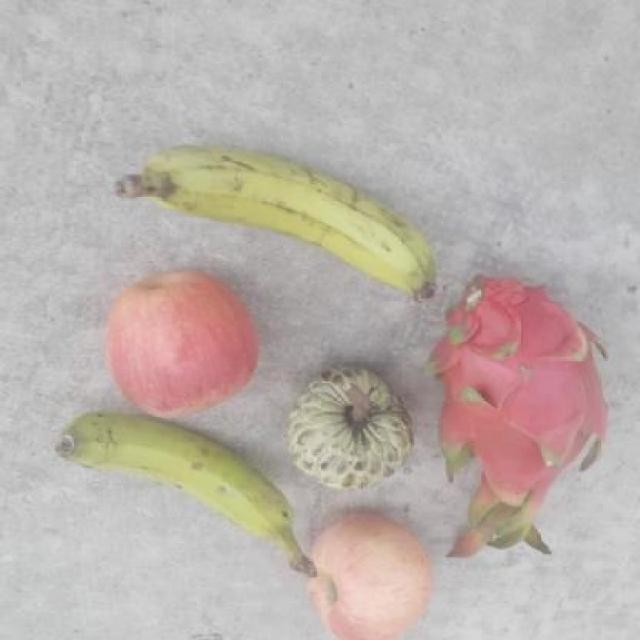apple: (100, 271, 258, 418), (304, 510, 438, 639)
banana: (112, 146, 440, 302), (52, 414, 319, 577)
dragon fruit: (422, 272, 613, 556)
sugar apple: (286, 364, 417, 491)
